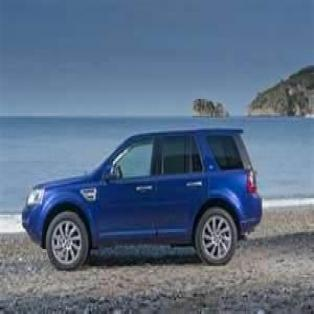Auto: (24, 127, 264, 271)
